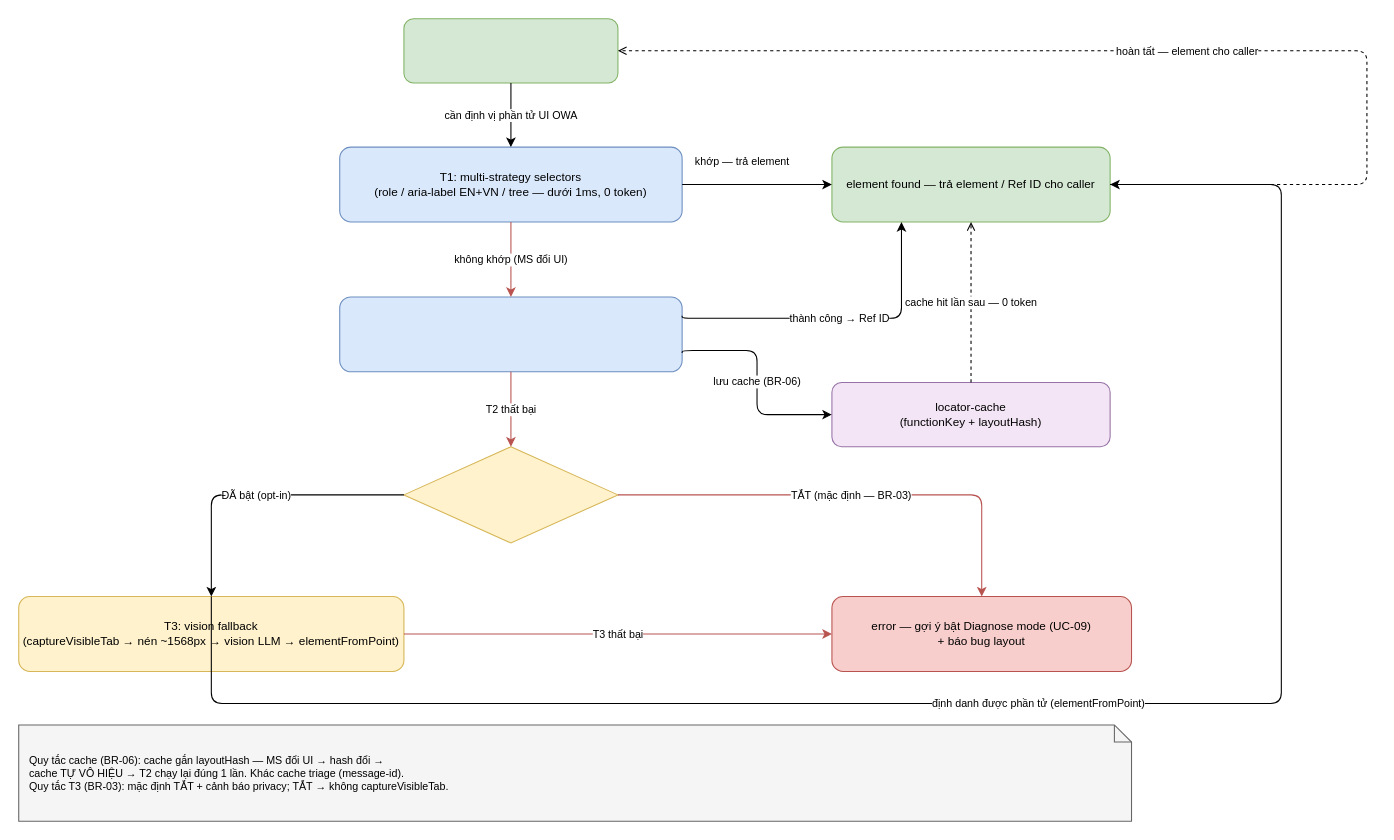
Some shapes in this 1394 by 840 pixel diagram are drawn without their labels. Here are the shapes that lost their labels. From the top down, the centre of each, then its label:
At [510,50]: "idle".
At [510,334]: "T2: semantic locator (a11y tree + LLM → Ref ID, filter interactive)".
At [510,494]: "vision fallback đã bật?".
